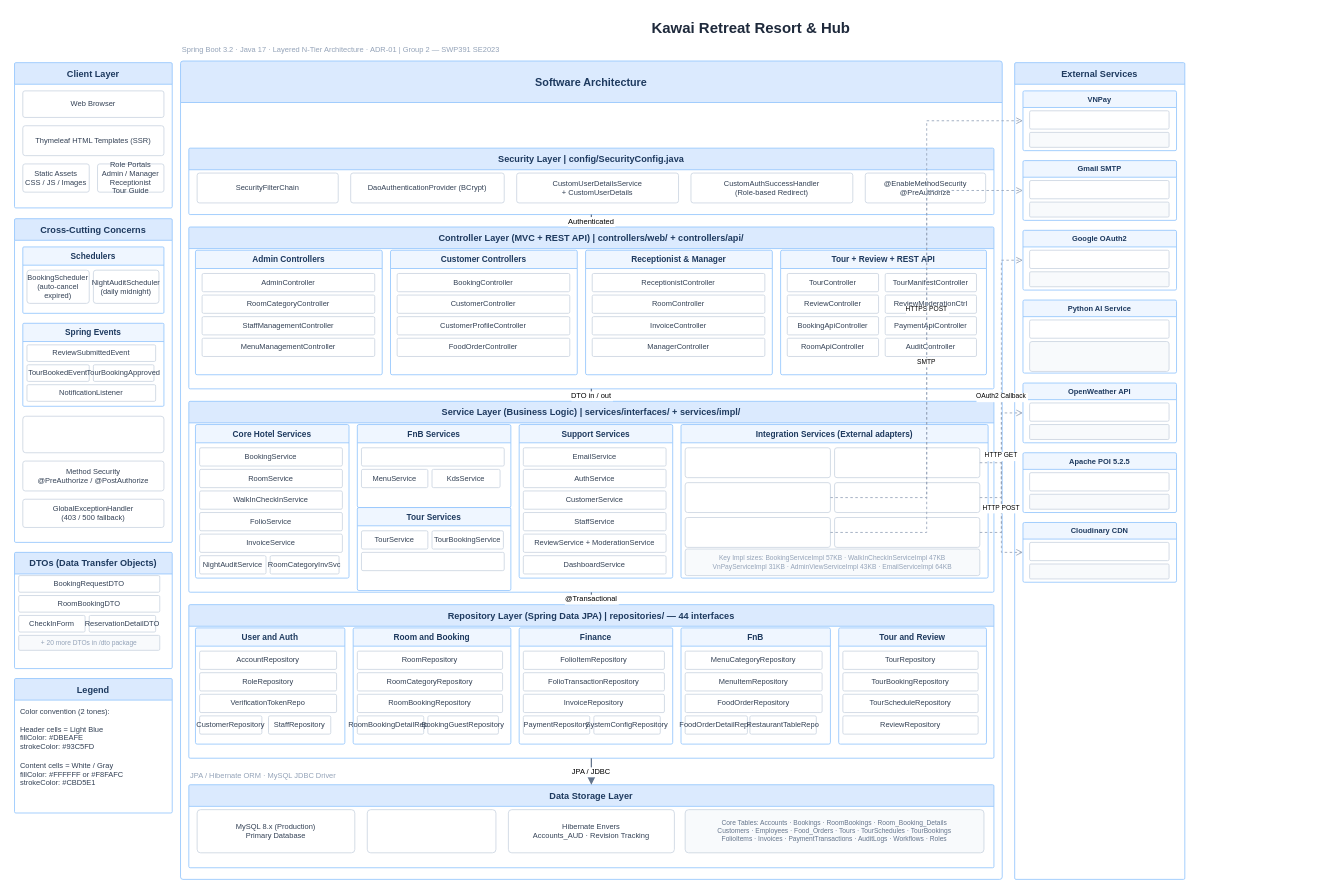
This 1340x894 diagram has some shape labels left out. The shapes that lost their labels are listed below. From the top down, each one's centre as x and y in pixels, then its label:
pixel 1099 119: Payment Gateway
pixel 1099 139: HMAC-SHA512 / IPN Webhook
pixel 1099 189: Email Notifications
pixel 1099 209: Port 587 / STARTTLS
pixel 1099 259: CustomOAuth2UserService
pixel 1099 279: OAuthAccountService · Social Login
pixel 1099 328: FastAPI Server
pixel 1099 356: FaceID Recognition OCR CCCD · HTTP REST calls
pixel 1099 411: Weather Data (REST)
pixel 1099 431: Tour scheduling context
pixel 93 434: Spring AOP @LogActivity → AuditLog INSERT AuditLogAspect.java
pixel 432 456: FoodOrderService / PosService
pixel 757 462: GeminiAIServiceImpl → Google Gemini LLM
pixel 907 462: CloudinaryServiceImpl → Cloudinary CDN
pixel 757 497: VnPayServiceImpl → VNPay Gateway
pixel 907 497: WeatherApiClientImpl → OpenWeather REST
pixel 1099 481: USALI Excel Export
pixel 1099 501: ExportApiController · Manager Reports
pixel 757 532: EmailServiceImpl → Gmail SMTP (587)
pixel 907 532: CustomOAuth2UserService → Google OAuth2
pixel 1099 551: Image Upload / Storage
pixel 432 561: TableReservationService
pixel 1099 571: Room photos / Avatar upload
pixel 431 831: H2 In-Memory Dev / Test Sandbox
